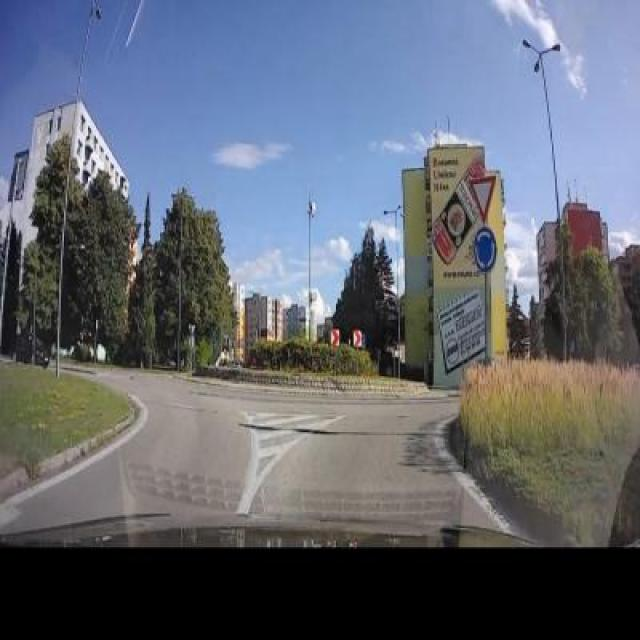clear-road: (98, 365, 458, 495)
